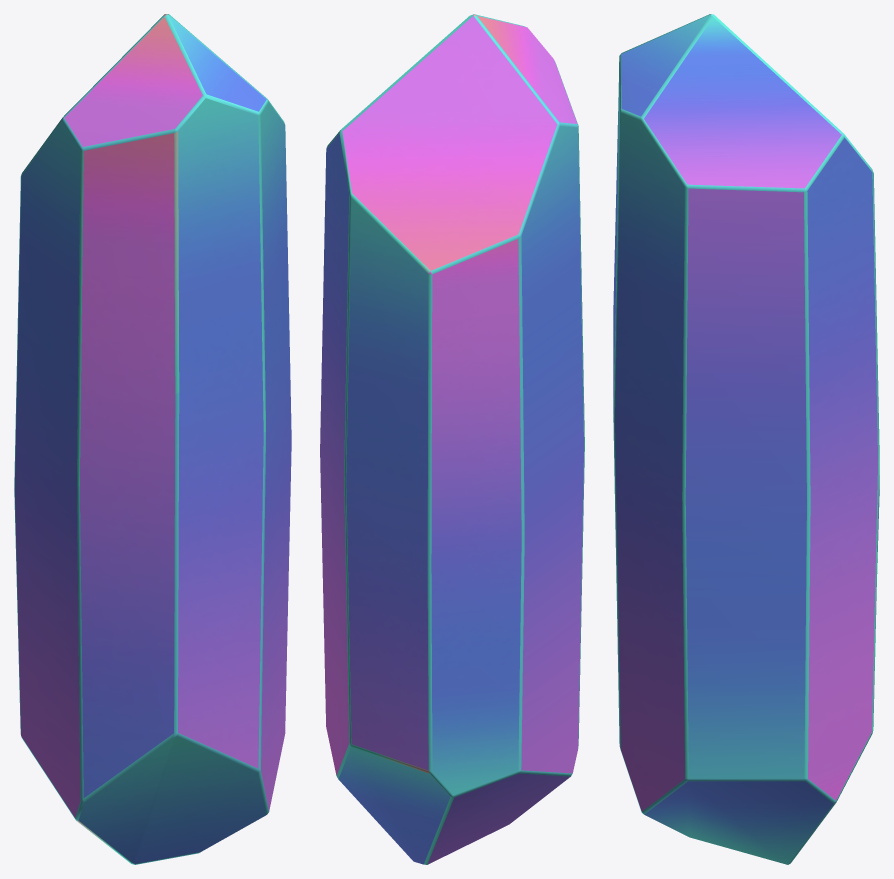
Rendered from Desert_Crystal.fbx.
3 renders of one model, left to right at view 1: azimuth 30°, elevation 25°; view 2: azimuth 150°, elevation 25°; view 3: azimuth 270°, elevation 25°, orthographic. The views are drawn at different scales.
Visible parts, largest first — view 1: Crystal; view 2: Crystal; view 3: Crystal.
Part boxes in pixels (box(x1,y1,x2,y2)): Crystal: box(14, 14, 291, 864); Crystal: box(320, 14, 584, 864); Crystal: box(613, 14, 879, 864).
Bounding box in the file's own units: 1.78 × 6.87 × 1.98.
1 material, 1 textured.
